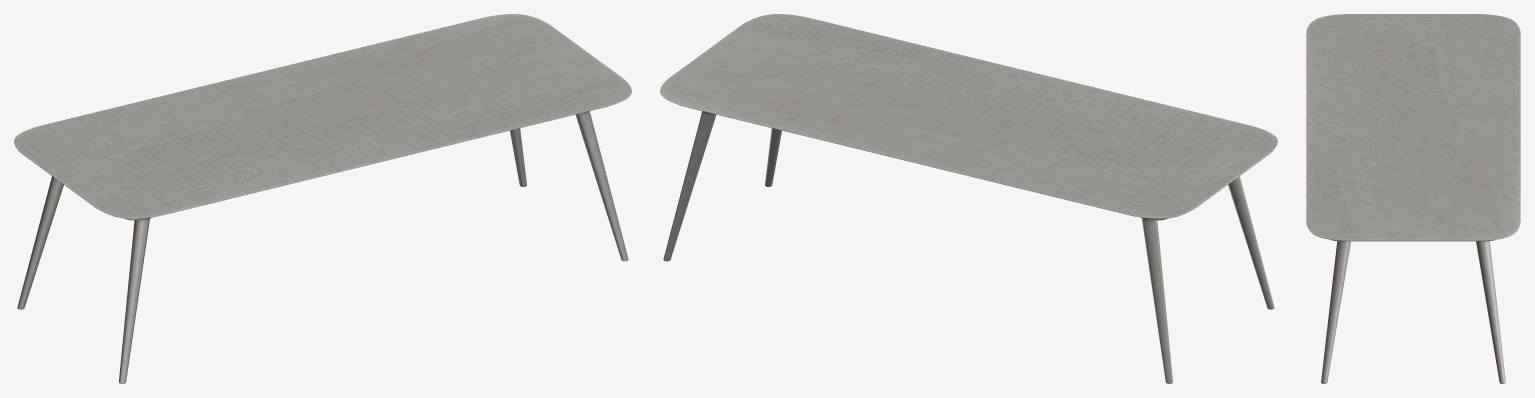
The picture shows the model from 3 angles, left to right: view 1: azimuth 30°, elevation 25°; view 2: azimuth 150°, elevation 25°; view 3: azimuth 270°, elevation 25°; orthographic projection. The views are drawn at different scales.
Visible parts, largest first — view 1: solid_001; view 2: solid_001; view 3: solid_001.
Part boxes in pixels (left/top/right/bottom): solid_001: left=14, top=14, right=631, bottom=383; solid_001: left=660, top=14, right=1277, bottom=383; solid_001: left=1306, top=14, right=1520, bottom=383.
Size of the model in its own units: 2 by 0.6096 by 0.8.
1 material, 1 textured.
